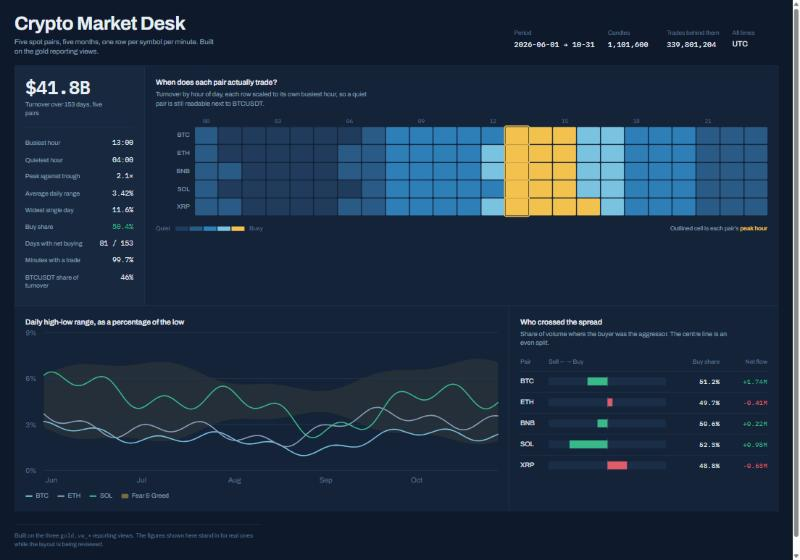

The dashboard page shown, as its layout file describes it:
{"tool":"powerbi","page":{"name":"Page 1","canvas":[1280,720],"ordinal":0},"visuals":[{"type":"pivotTable","title":"Trading Activity by hour (UTC)","fields":{"Columns":["gold vw_symbol_hourly_activity.hour_utc"],"Rows":["gold dim_symbol.symbol"],"Values":["Report Measures.Turnover vs own peak"]},"box":[320,70,960,200],"z":0},{"type":"slicer","fields":{"Values":["gold dim_symbol.symbol"]},"box":[320,12,220,50],"z":1000},{"type":"slicer","fields":{"Values":["gold dim_date.full_date"]},"box":[560,12,300,50],"z":2000},{"type":"lineChart","title":"Daily price range by trading pair","fields":{"Category":["gold dim_date.full_date"],"Series":["gold dim_symbol.symbol"],"Y":["Report Measures.Avg daily range %"]},"box":[320,293.8,560,420],"z":3000},{"type":"clusteredBarChart","title":"Buy/sell pressure by trading pair","fields":{"Category":["gold dim_symbol.symbol"],"Y":["Report Measures.Buy pressure pp"]},"box":[890,293.8,370,420],"z":4000},{"type":"cardVisual","fields":{"Data":["Report Measures.Turnover"]},"box":[20,70,280,100],"z":5000},{"type":"cardVisual","fields":{"Data":["Report Measures.Avg daily range %"]},"box":[20,180,280,100],"z":6000},{"type":"cardVisual","fields":{"Data":["Report Measures.Buy share"]},"box":[20,290,280,100],"z":7000}]}

Visuals, with their boxes on the page's 1280x720 design canvas (x1, y1, x2, y2). These are canvas units, not pixel positions in the 800x560 screenshot, which may show the page scaled, cropped or inside an application window:
"Trading Activity by hour (UTC)" pivotTable: crop(320, 70, 1280, 270)
slicer - gold dim_symbol.symbol: crop(320, 12, 540, 62)
slicer - gold dim_date.full_date: crop(560, 12, 860, 62)
"Daily price range by trading pair" lineChart: crop(320, 294, 880, 714)
"Buy/sell pressure by trading pair" clusteredBarChart: crop(890, 294, 1260, 714)
cardVisual - Report Measures.Turnover: crop(20, 70, 300, 170)
cardVisual - Report Measures.Avg daily range %: crop(20, 180, 300, 280)
cardVisual - Report Measures.Buy share: crop(20, 290, 300, 390)
